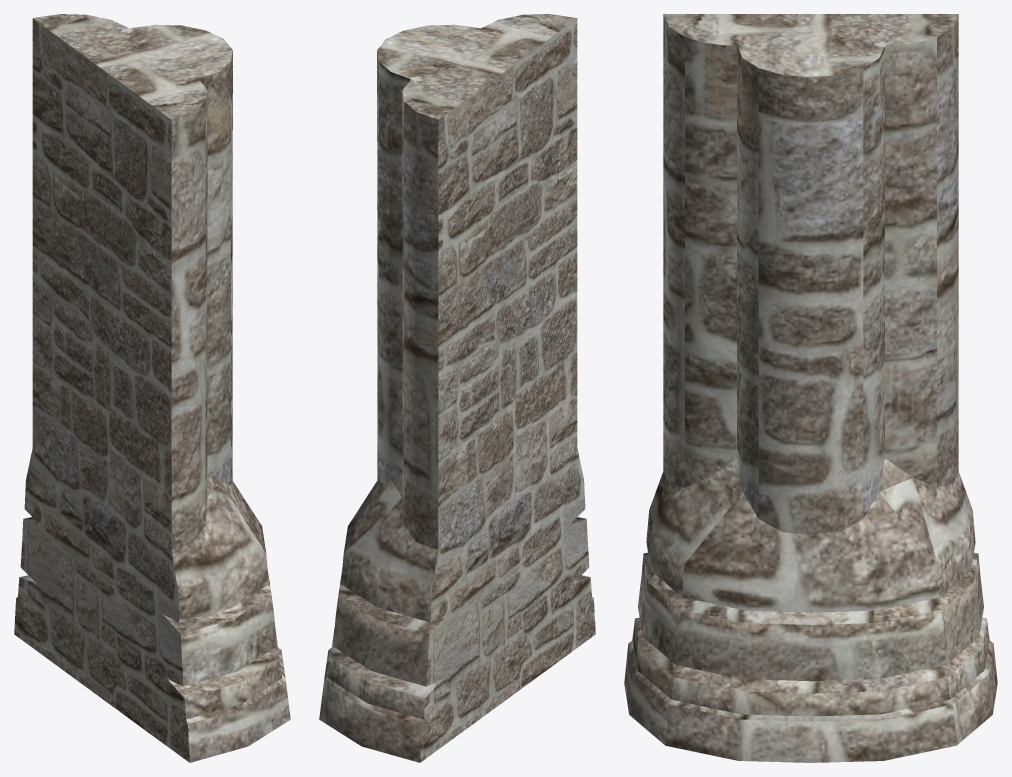
Rendered from wall_small4_base_half.obj.
3 views of the same model, side by side, from view 1: azimuth 30°, elevation 25°; view 2: azimuth 150°, elevation 25°; view 3: azimuth 270°, elevation 25° (orthographic). The views are drawn at different scales.
Visible parts, largest first — view 1: unnamed_object1_MatWall; view 2: unnamed_object1_MatWall; view 3: unnamed_object1_MatWall.
Boxes of the visible parts, box(x1,y1,x2,y2) form: unnamed_object1_MatWall: box(14, 14, 290, 762); unnamed_object1_MatWall: box(319, 14, 595, 762); unnamed_object1_MatWall: box(624, 14, 997, 762).
Size of the model in its own units: 0.5103 by 2 by 1.01.
1 material, 1 textured.
